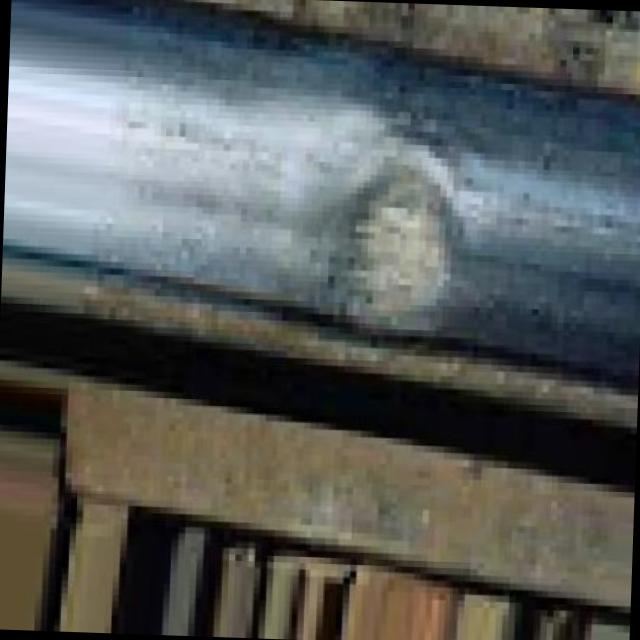defective: (233, 95, 542, 432)
